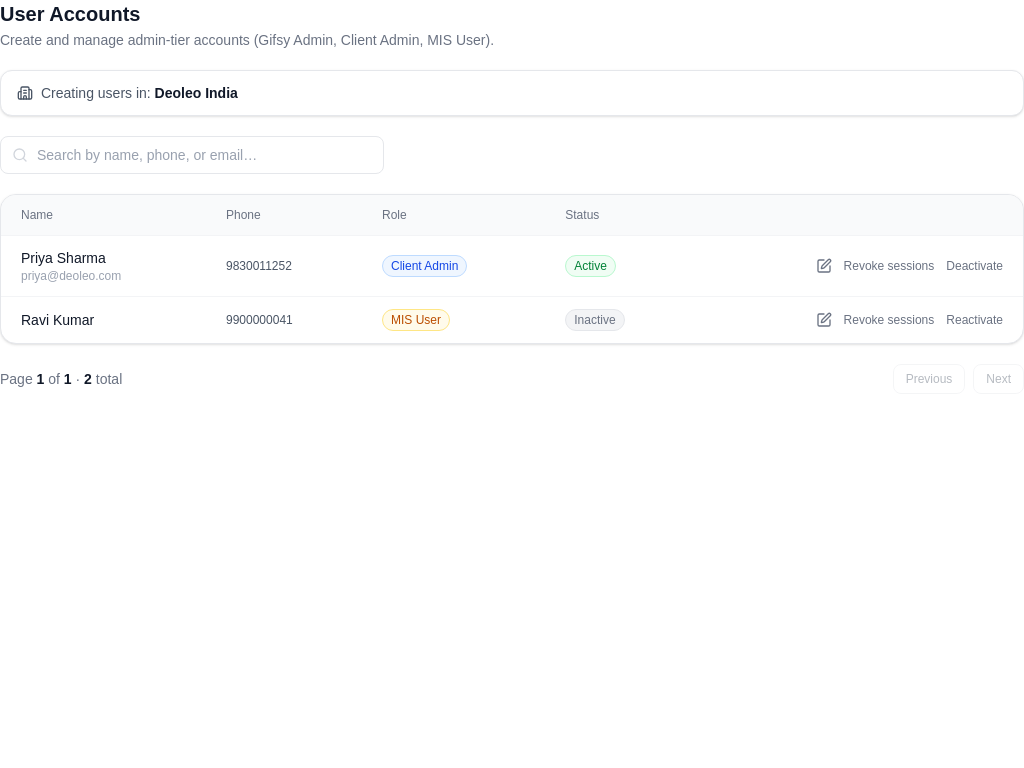
Test: Admin User Accounts page › AU9: the Edit role select always includes the user CURRENT role, even if the caller cannot assign it
Expected: the text "Priya Sharma" is shown, [21,250,106,266]
Click the button named "edit priya sharma" at (824, 266), box [816,258,832,274]
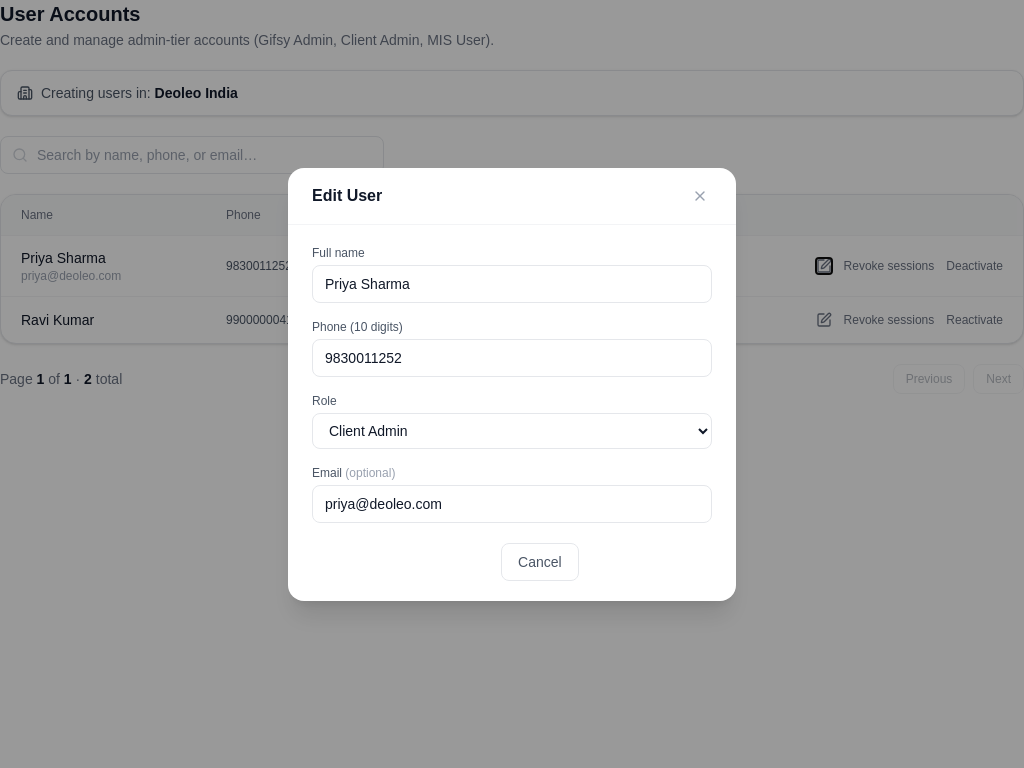
Expected: the dropdown named "Role" shows "Client Admin", [312,412,712,448]
